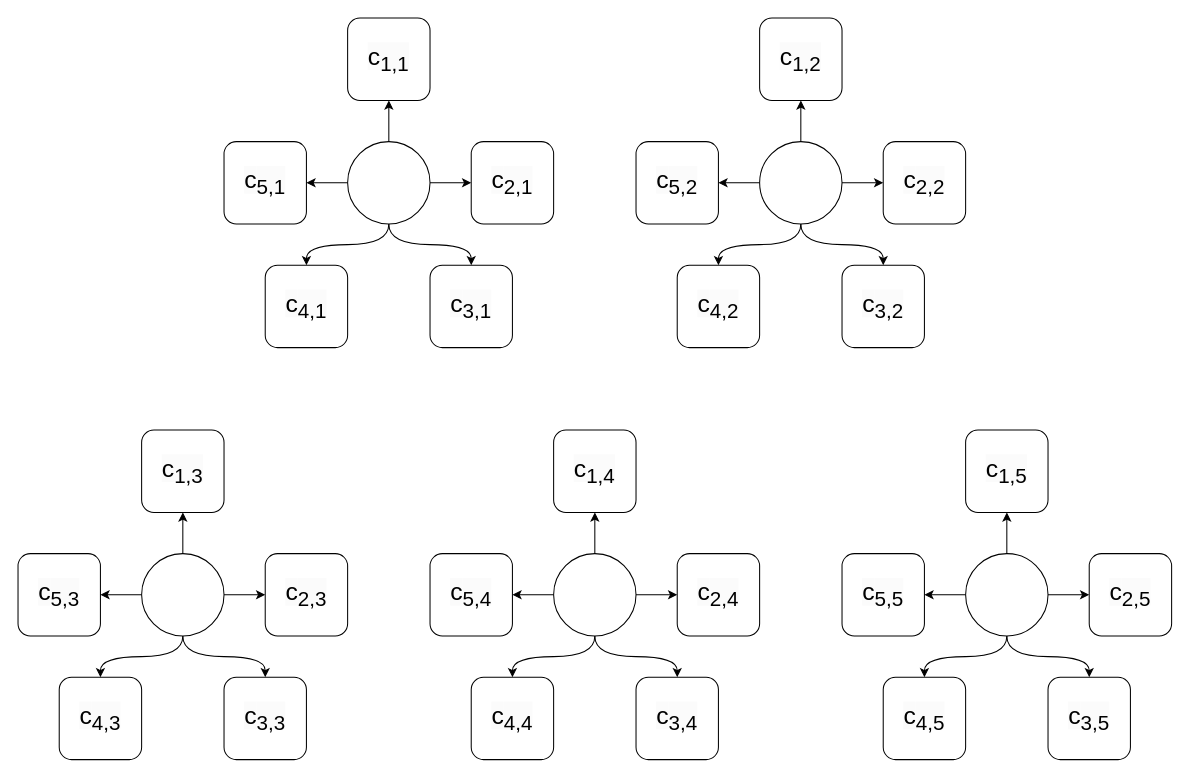
The diagram is 1190 pixels wide and 778 high, and some of its shapes have lost their labels. The shapes that lost their labels are listed below. From the top down, each one's centre as x and y in pixels, then its label:
At (388,182): "r 1".
At (800,182): "r 2".
At (182,594): "r 3".
At (594,594): "r 4".
At (1006,594): "r 5".
